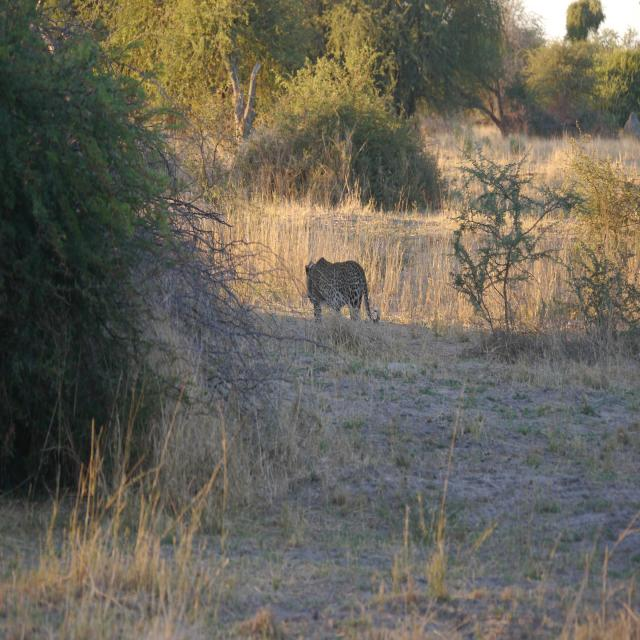Leopard: (296, 253, 384, 330)
